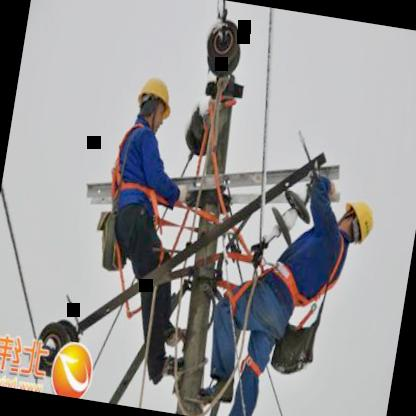helmet: (130, 68, 180, 137), (334, 192, 379, 248)
